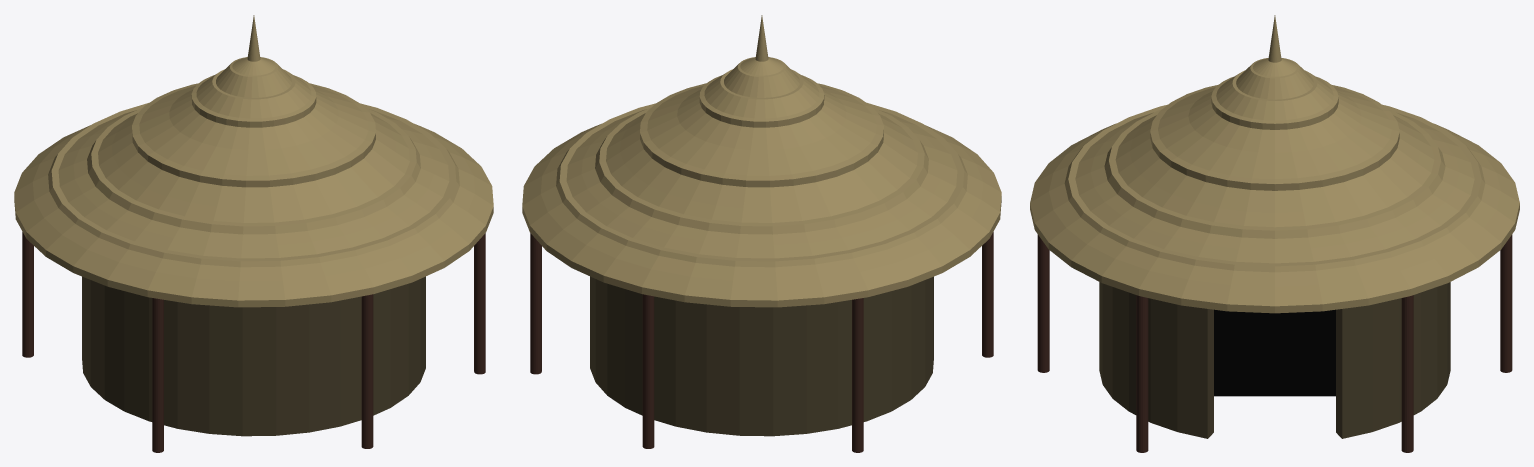
Rendered from ShamansTent.fbx.
3 renders of one model, left to right at view 1: azimuth 30°, elevation 25°; view 2: azimuth 150°, elevation 25°; view 3: azimuth 270°, elevation 25°, orthographic.
Parts seen in each view (by area): view 1: Tent_Roof, Tent_Base, Tent_Support; view 2: Tent_Roof, Tent_Base, Tent_Support; view 3: Tent_Roof, Tent_Base, Tent_Dark, Tent_Support.
Boxes of the visible parts, x1=… form: Tent_Roof: x1=14, y1=15, x2=493, y2=307; Tent_Base: x1=82, y1=276, x2=425, y2=436; Tent_Support: x1=22, y1=232, x2=485, y2=452; Tent_Roof: x1=522, y1=15, x2=1001, y2=307; Tent_Base: x1=590, y1=276, x2=933, y2=436; Tent_Support: x1=530, y1=232, x2=993, y2=452; Tent_Roof: x1=1030, y1=15, x2=1519, y2=313; Tent_Base: x1=1099, y1=282, x2=1450, y2=438; Tent_Dark: x1=1214, y1=309, x2=1335, y2=396; Tent_Support: x1=1037, y1=234, x2=1512, y2=452.
Size of the model in its own units: 930 by 747 by 930.
